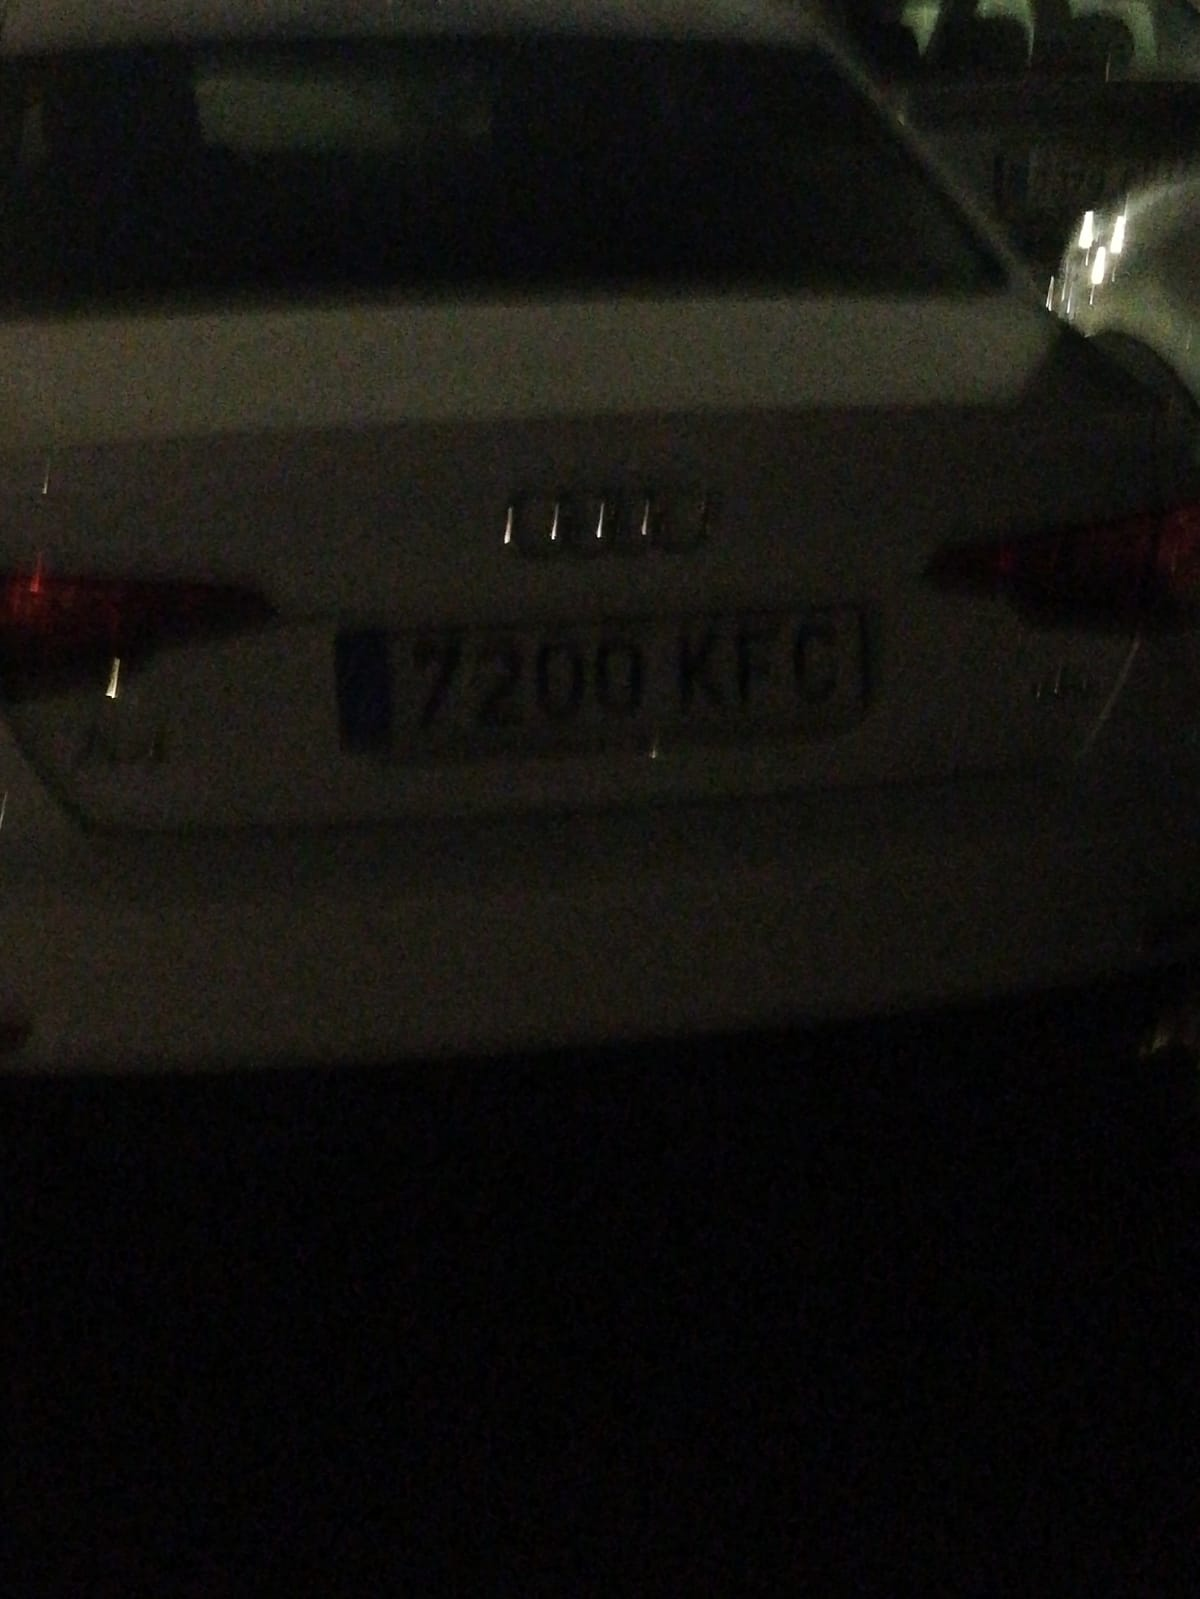Plate: (332, 634, 865, 751)
